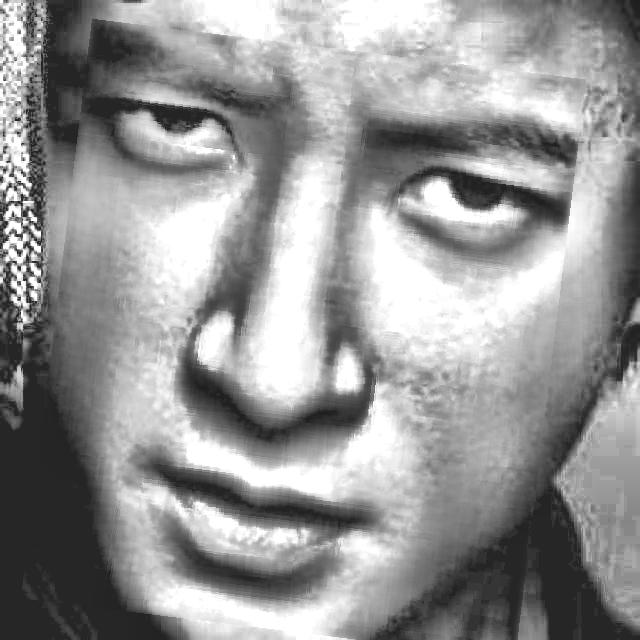angry: (38, 32, 569, 640)
